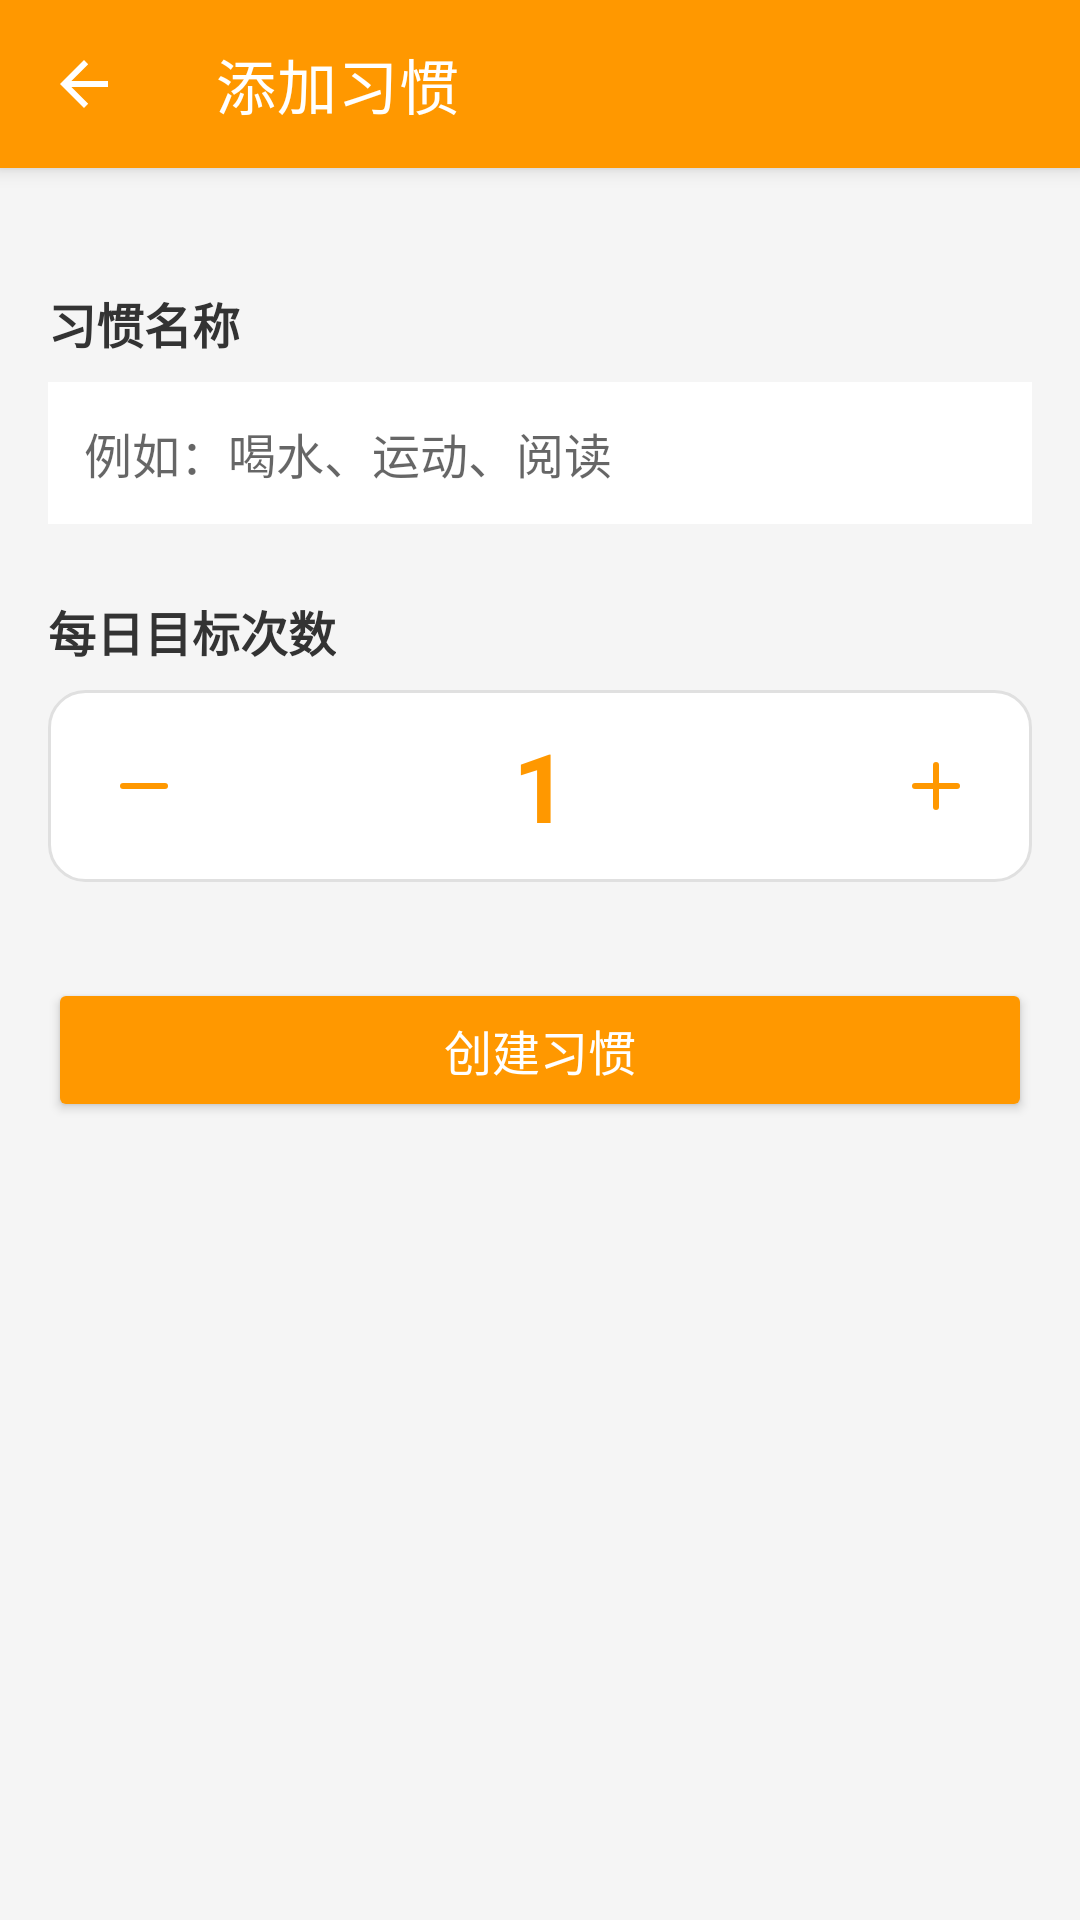

Locate icon controls on the screen. Image size 1080 × 1920, boxes as (x1, y1, x2, y2).
plus: (912, 762, 960, 810)
